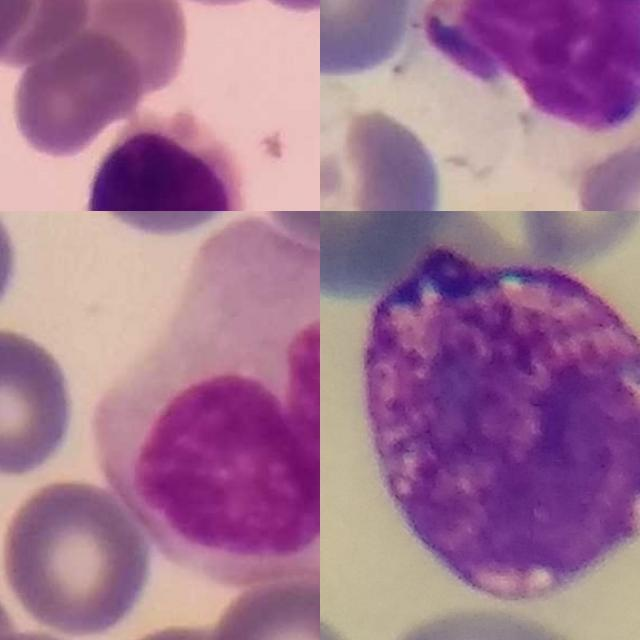Basophil: (366, 246, 640, 600)
Lymphocyte: (411, 0, 640, 148), (83, 108, 247, 211)
Monocyte: (97, 229, 320, 589)
